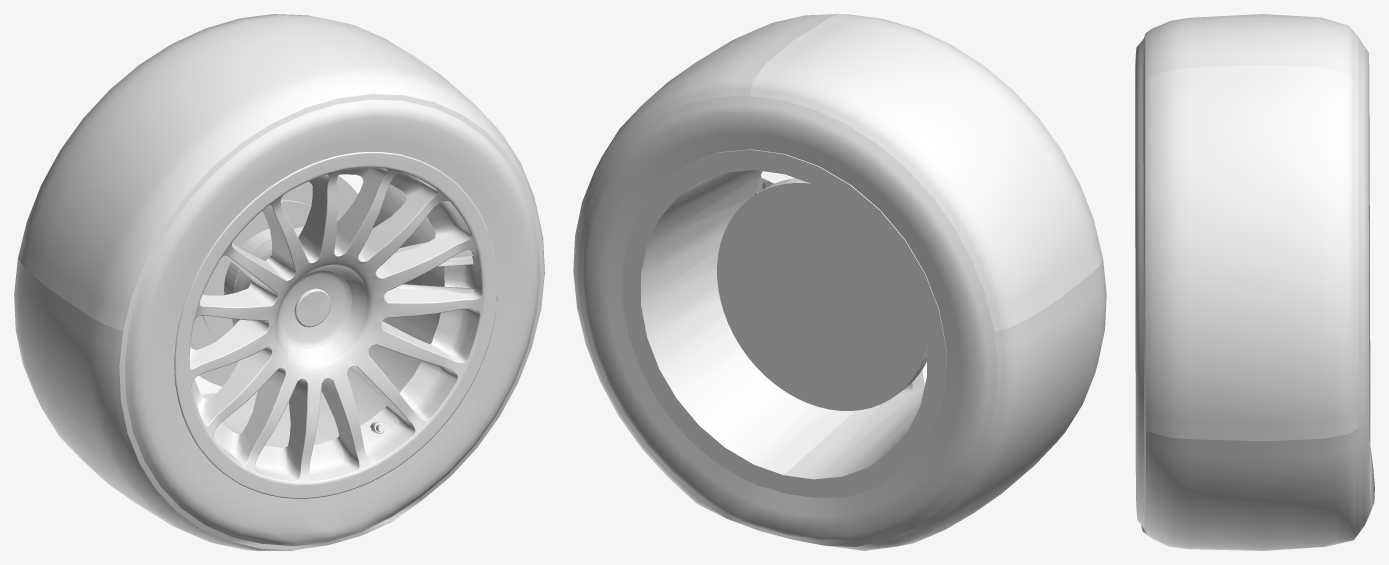
Rendered from wheel_r.dae.
3 renders of one model, left to right at view 1: azimuth 30°, elevation 25°; view 2: azimuth 150°, elevation 25°; view 3: azimuth 270°, elevation 25°, orthographic. The views are drawn at different scales.
Visible parts, largest first — view 1: wheel_lf.child.003_44; view 2: wheel_lf.child.003_44; view 3: wheel_lf.child.003_44.
Part boxes in pixels (x1=…): wheel_lf.child.003_44: x1=14, y1=14, x2=544, y2=550; wheel_lf.child.003_44: x1=573, y1=14, x2=1106, y2=550; wheel_lf.child.003_44: x1=1135, y1=14, x2=1374, y2=550.
Size of the model in its own units: 0.7229 by 0.3217 by 0.7109.
Materials: 5 (5 with a texture image).
